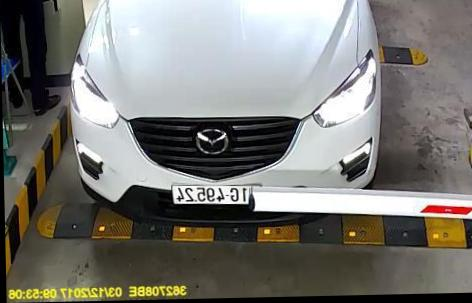License_Plate: (169, 181, 266, 207)
